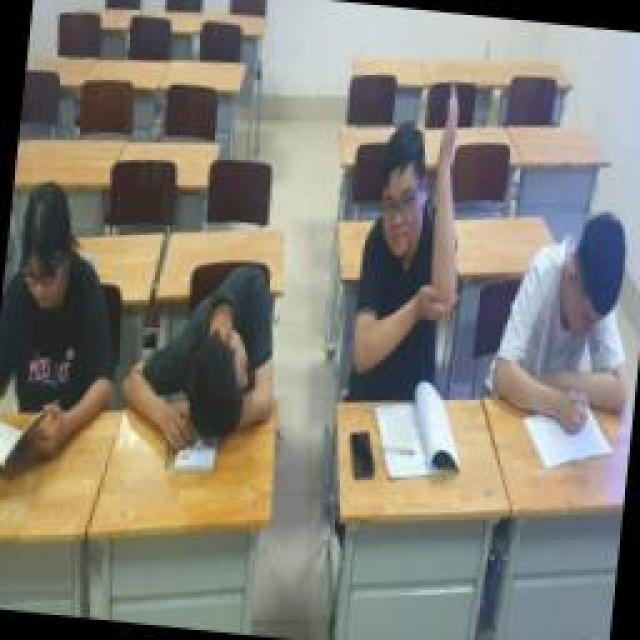sleep: (120, 252, 290, 458)
study: (348, 80, 480, 402), (0, 172, 132, 467), (487, 192, 640, 429)
